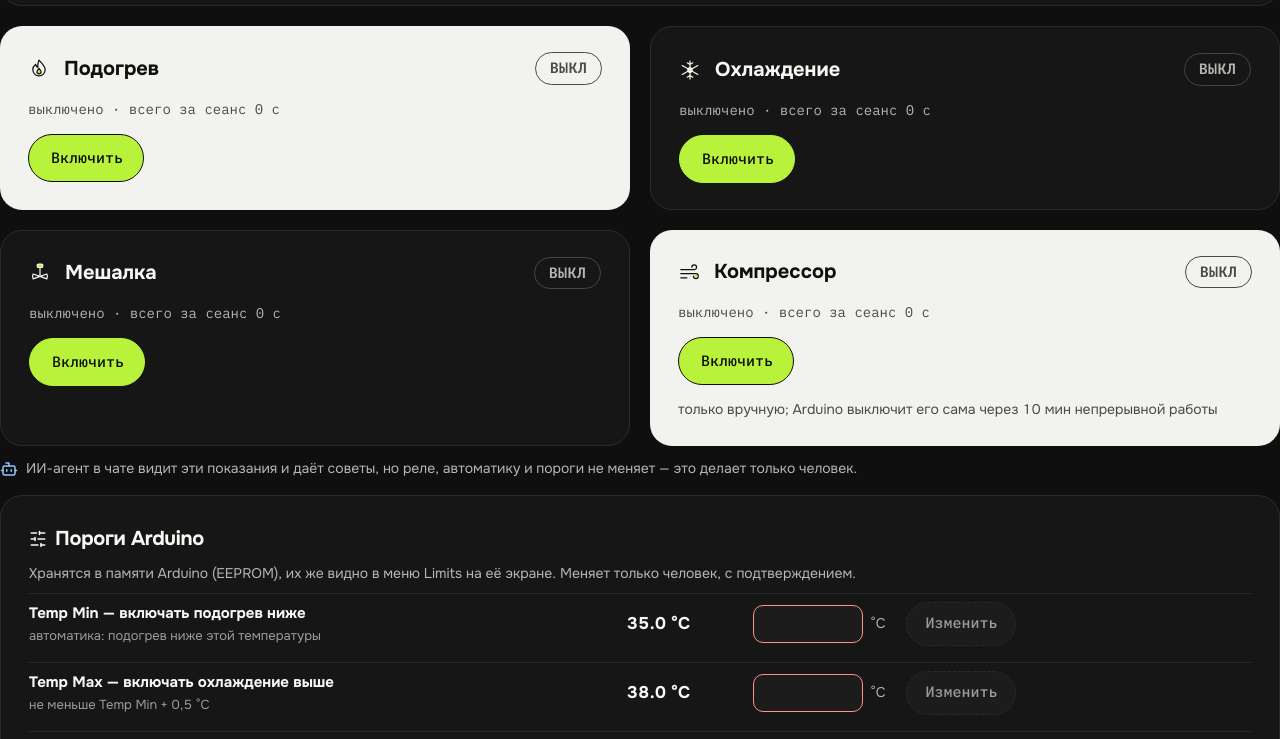
Test: Reactor page › four relays (4 = compressor, API name auger); asks for confirmation; cancel sends nothing
The width and height of the screenshot is (1280, 739).
(page scrolled)
Expected: the element with test id "rx-relay-auger" shows "Компрессор", x1=714 y1=259 x2=836 y2=284
Click the button with test id "rx-relay-button-auger" at point(736, 361), box x1=678 y1=337 x2=794 y2=385
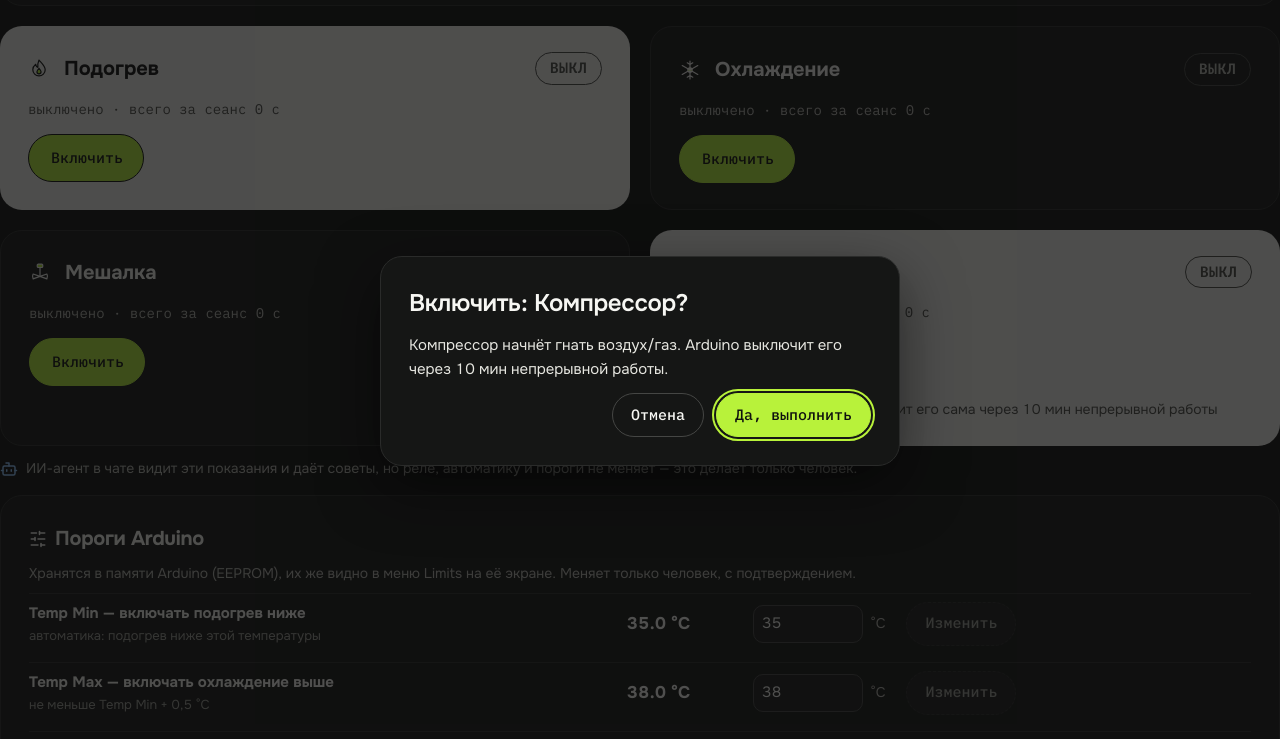
Expected: the element with test id "rx-relay-pump" shows "Мешалка", x1=65 y1=260 x2=157 y2=285
Click the button "Отмена" at point(658, 415), box x1=612 y1=393 x2=704 y2=437
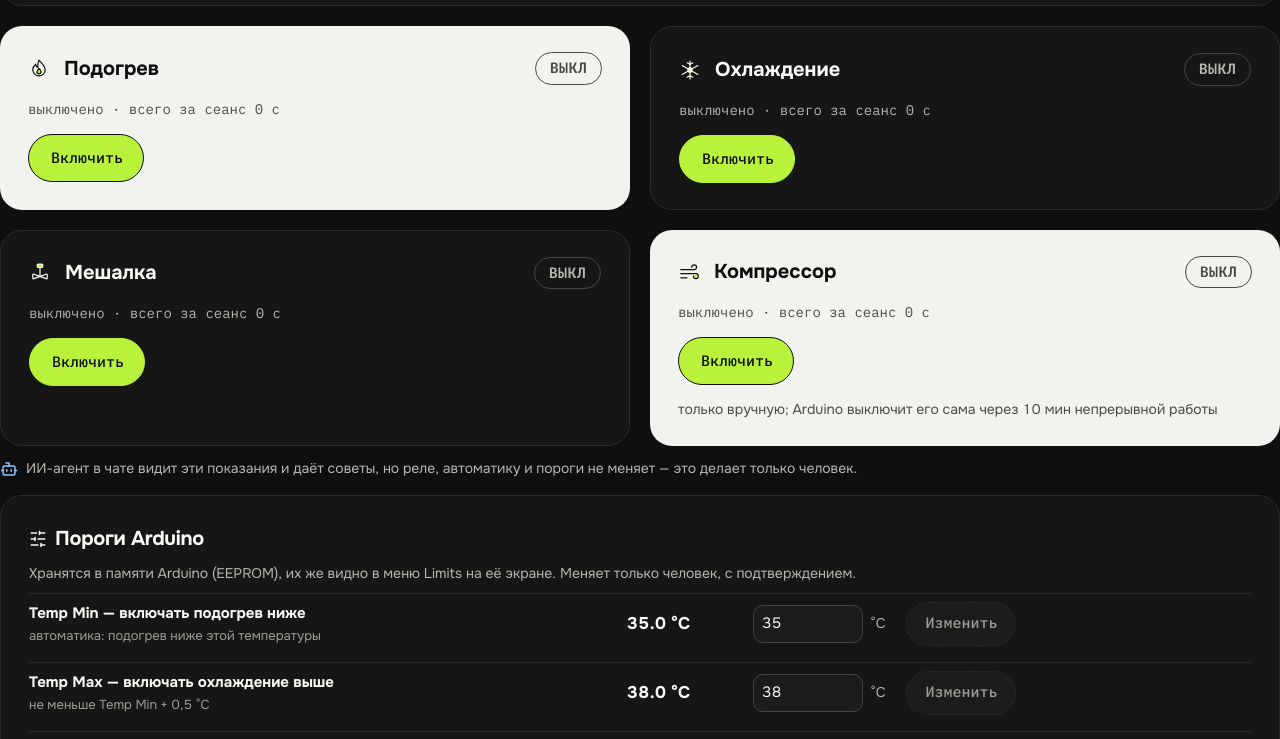
Click the button with test id "rx-relay-button-heat" at point(86, 158), box x1=28 y1=134 x2=144 y2=182
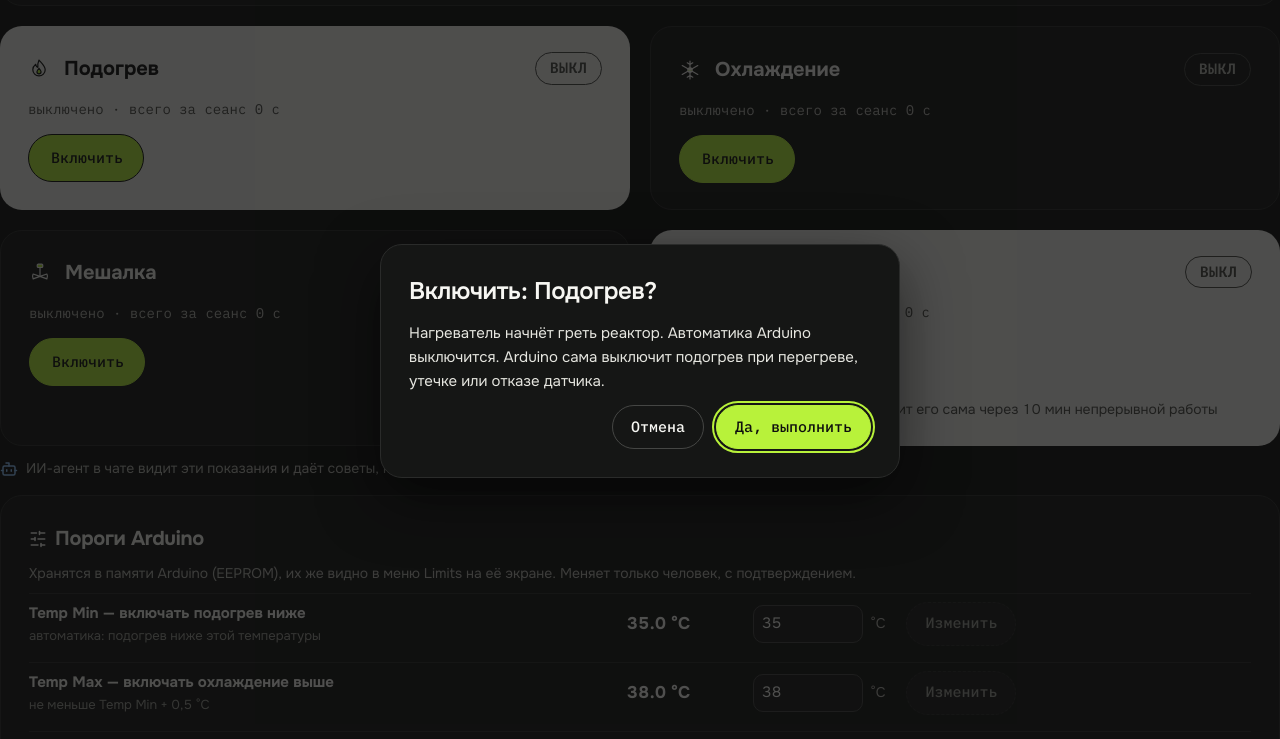
Click the button with test id "rx-confirm-yes" at point(794, 427), box x1=716 y1=405 x2=871 y2=449
(page scrolled)
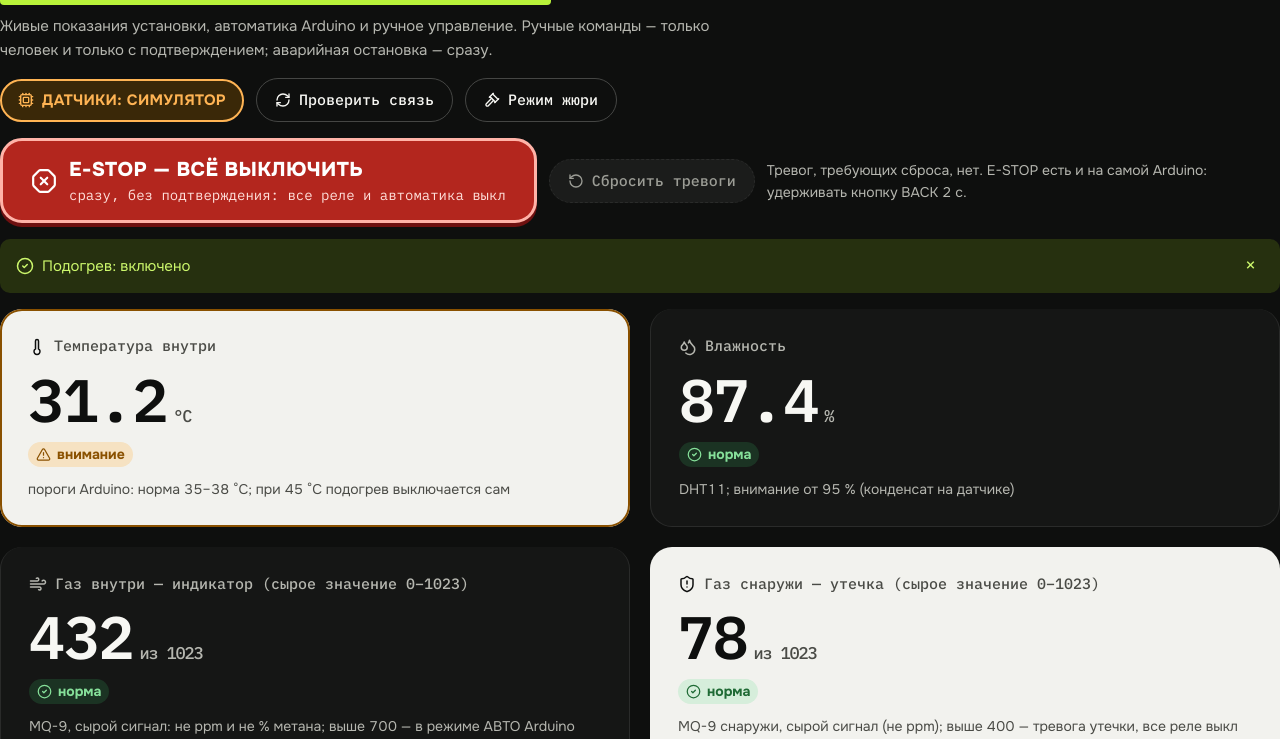
Expected: the message with test id "rx-message" shows "Подогрев: включено", x1=42 y1=256 x2=190 y2=276
